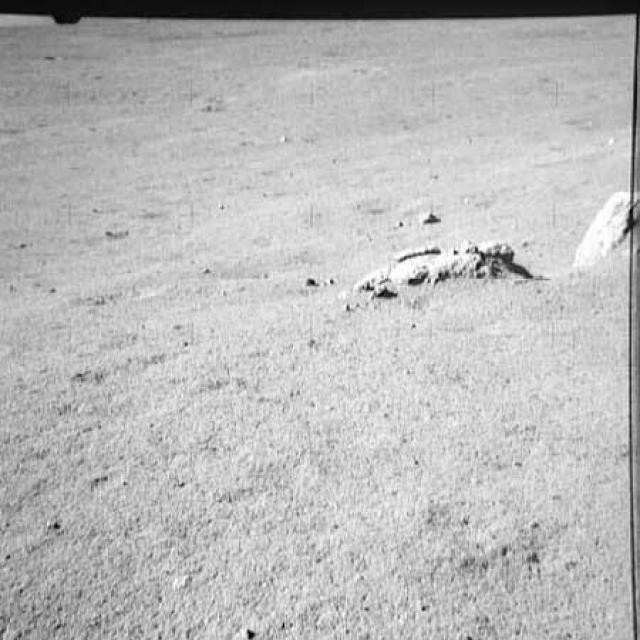rock: (360, 228, 529, 306), (574, 176, 638, 270), (410, 204, 444, 230)
